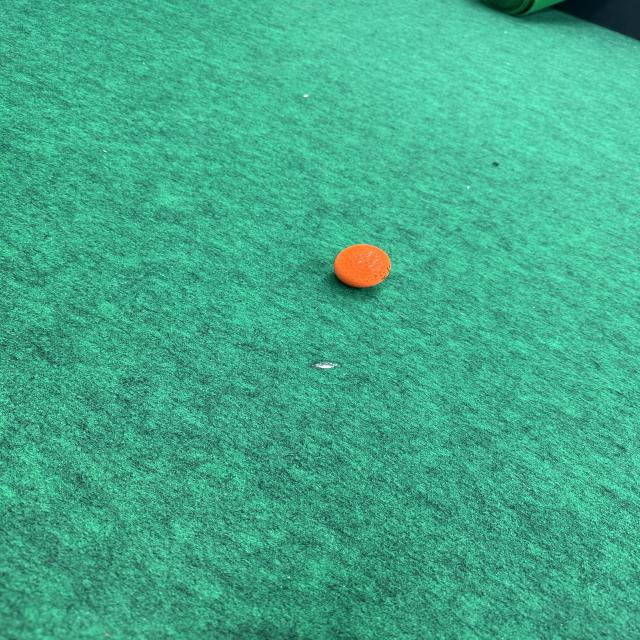ball: (333, 243, 392, 289)
